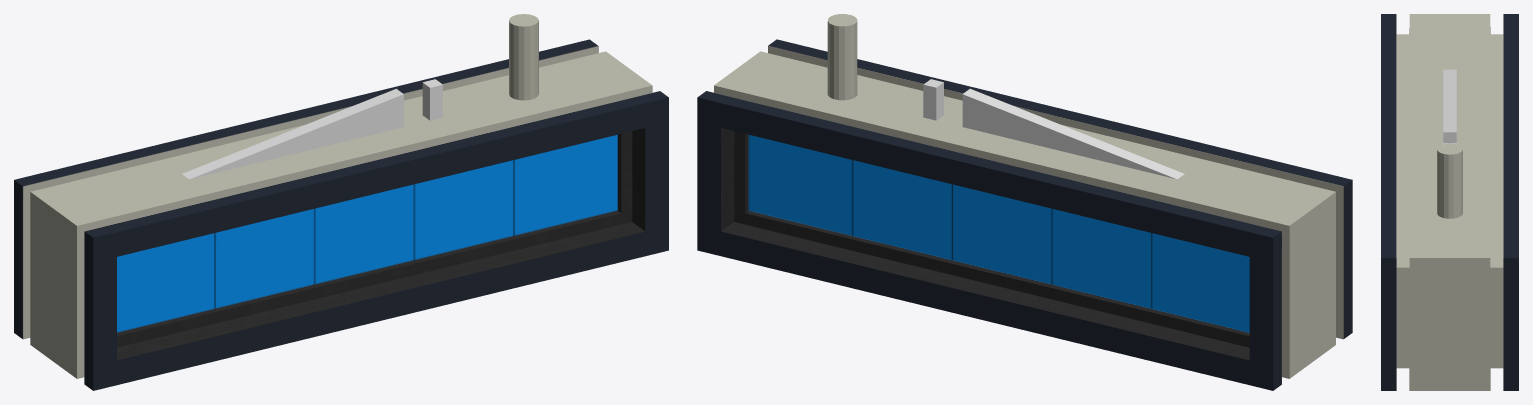
The model's file is platform_signs.fbx.
3 renders of one model, left to right at view 1: azimuth 30°, elevation 25°; view 2: azimuth 150°, elevation 25°; view 3: azimuth 270°, elevation 25°, orthographic. The views are drawn at different scales.
Parts seen in each view (by area): view 1: LillyDisplay, SmallLCDSign, FlatscreenSign; view 2: LillyDisplay, SmallLCDSign, FlatscreenSign; view 3: LillyDisplay, SmallLCDSign.
Part boxes in pixels (x1=…): LillyDisplay: x1=14, y1=14, x2=668, y2=390; SmallLCDSign: x1=182, y1=88, x2=403, y2=179; FlatscreenSign: x1=422, y1=79, x2=442, y2=120; LillyDisplay: x1=697, y1=14, x2=1352, y2=390; SmallLCDSign: x1=962, y1=88, x2=1184, y2=179; FlatscreenSign: x1=923, y1=79, x2=1118, y2=164; LillyDisplay: x1=1381, y1=14, x2=1518, y2=390; SmallLCDSign: x1=1443, y1=69, x2=1456, y2=143.
Bounding box in the file's own units: 441 × 166 × 105.
Materials: 3 (1 with a texture image).
